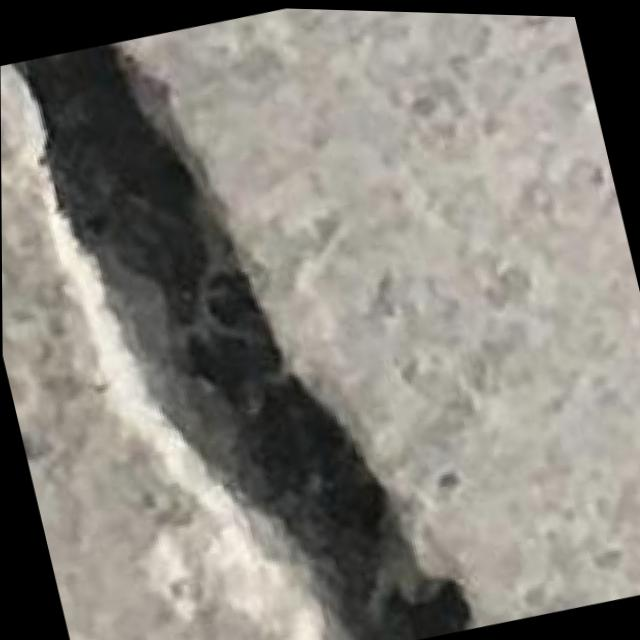Crack: (8, 0, 496, 640)
